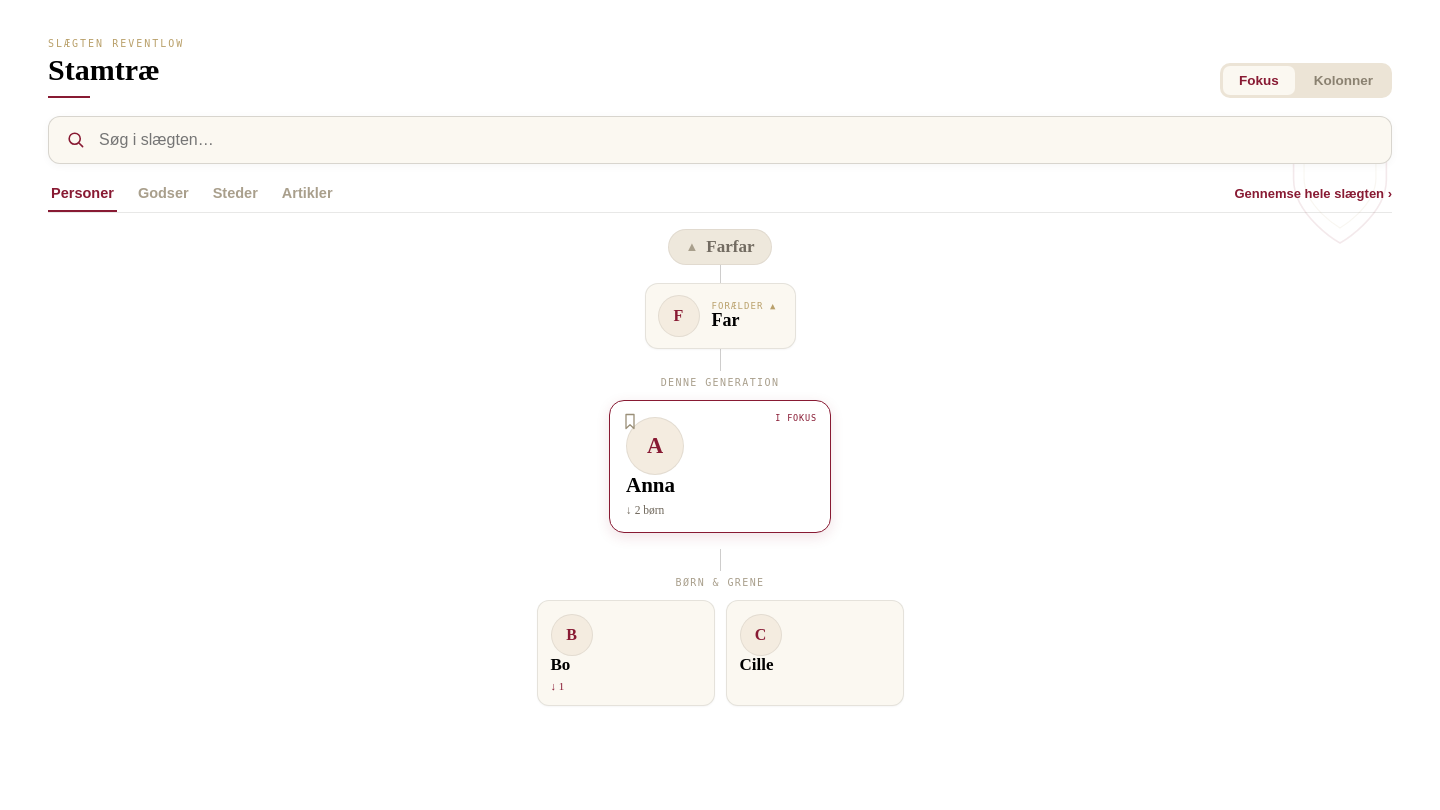
Test: TreeView › Kolonner default: Forældre + Fokus + Børn synlige (begge retninger)
The image size is (1440, 810).
Click the text "Kolonner": [1343, 80] box [1314,72,1373,88]
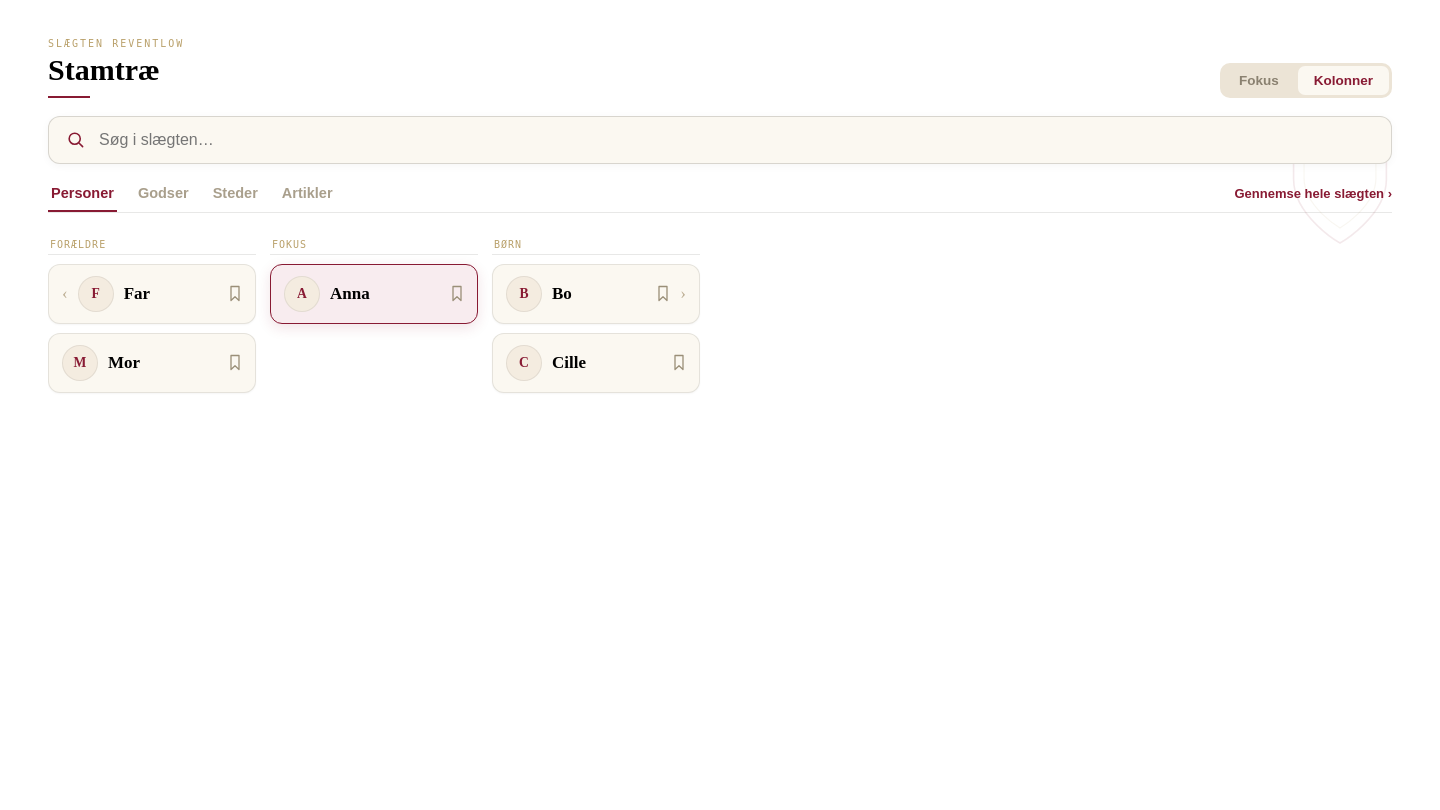
Expected: the text "Forældre" is shown, [48,238,256,254]
Expected: the link "Mor" is shown, [108,352,140,372]
Expected: the text "‹" is shown, [62,284,68,304]
